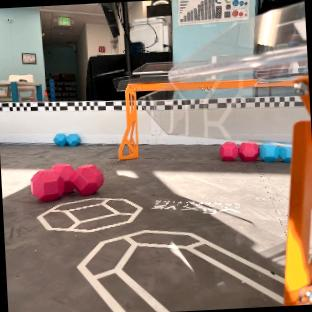V5_BLUE: (259, 143, 279, 161), (53, 133, 80, 145), (279, 146, 291, 162)
V5_RED: (29, 163, 102, 202), (219, 142, 259, 161)
